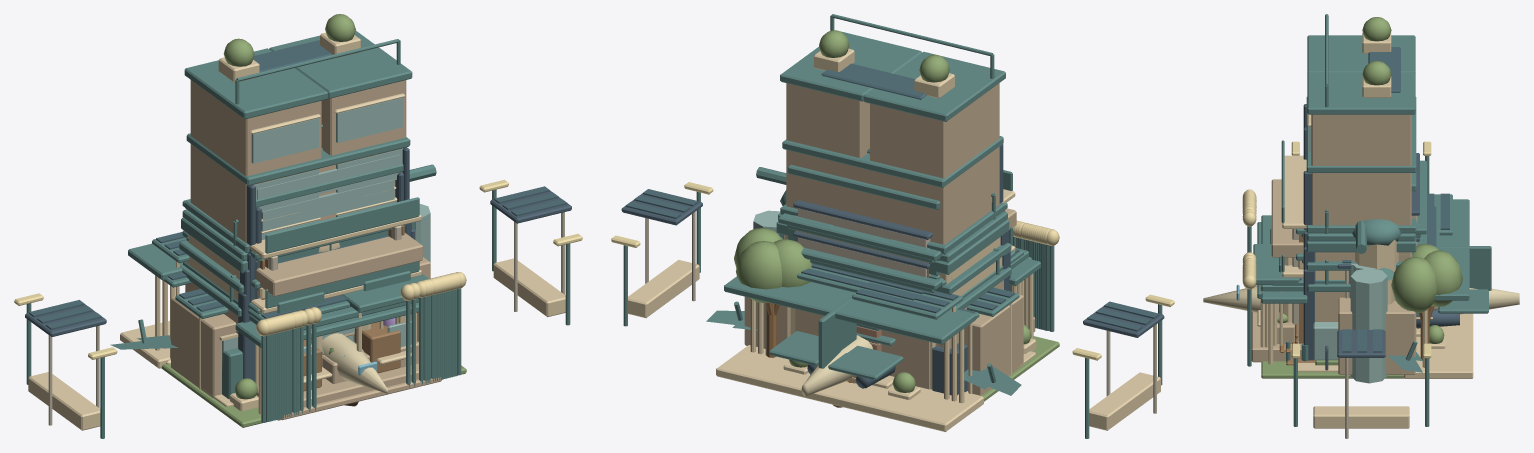
Rendered from city.glb.
3 renders of one model, left to right at view 1: azimuth 30°, elevation 25°; view 2: azimuth 150°, elevation 25°; view 3: azimuth 270°, elevation 25°, orthographic. The views are drawn at different scales.
Visible parts, largest first — view 1: Separate dwelling.011, Bank entablature.001, Dwelling cornice.011, Side service wing.001, Dwelling cornice.012, Balcony balustrade.006, Ribbon window band.002, Separate dwelling.012, Period roof.034, Approach planter.002, Approach planter.003, Glazing.139 (+36 smaller); view 2: Separate dwelling.011, Platform.004, Separate dwelling.012, Entrance canopy.030, Dwelling cornice.011, Dwelling cornice.012, Purpose built hall.035, Side service wing.001, Purpose built hall.034, Period roof.034, Approach planter.002, Approach planter.003 (+41 smaller); view 3: Separate dwelling.012, Dwelling cornice.012, Reservoir.007, Dwelling cornice.011, Loading wing.001, Approach planter.003, Soft leaf crown.004, Platform.003, Balcony deck.006, Jet fuselage, Bank entablature.001, Period roof.034 (+47 smaller).
Boxes of the visible parts, x1=… form: Separate dwelling.011: x1=190, y1=80, x2=321, y2=242; Bank entablature.001: x1=256, y1=233, x2=422, y2=296; Dwelling cornice.011: x1=184, y1=48, x2=327, y2=119; Side service wing.001: x1=171, y1=296, x2=236, y2=398; Dwelling cornice.012: x1=269, y1=30, x2=412, y2=98; Balcony balustrade.006: x1=265, y1=197, x2=419, y2=253; Ribbon window band.002: x1=261, y1=179, x2=394, y2=231; Separate dwelling.012: x1=321, y1=80, x2=406, y2=196; Period roof.034: x1=186, y1=133, x2=410, y2=185; Approach planter.002: x1=28, y1=372, x2=100, y2=430; Approach planter.003: x1=493, y1=258, x2=565, y2=317; Glazing.139: x1=251, y1=118, x2=318, y2=163; Separate dwelling.011: x1=870, y1=83, x2=999, y2=244; Platform.004: x1=724, y1=347, x2=962, y2=430; Separate dwelling.012: x1=786, y1=83, x2=869, y2=239; Entrance canopy.030: x1=732, y1=281, x2=958, y2=341; Dwelling cornice.011: x1=863, y1=51, x2=1005, y2=121; Dwelling cornice.012: x1=780, y1=31, x2=921, y2=101; Purpose built hall.035: x1=795, y1=176, x2=934, y2=242; Side service wing.001: x1=964, y1=294, x2=1023, y2=395; Purpose built hall.034: x1=790, y1=151, x2=939, y2=243; Period roof.034: x1=782, y1=136, x2=1003, y2=187; Approach planter.002: x1=1089, y1=372, x2=1160, y2=430; Approach planter.003: x1=628, y1=259, x2=699, y2=317; Separate dwelling.012: x1=1311, y1=114, x2=1411, y2=225; Dwelling cornice.012: x1=1307, y1=72, x2=1415, y2=114; Reservoir.007: x1=1350, y1=268, x2=1387, y2=383; Dwelling cornice.011: x1=1307, y1=35, x2=1415, y2=72; Loading wing.001: x1=1338, y1=297, x2=1415, y2=374; Approach planter.003: x1=1313, y1=406, x2=1409, y2=428; Soft leaf crown.004: x1=1391, y1=257, x2=1437, y2=313; Platform.003: x1=1416, y1=313, x2=1471, y2=364; Balcony deck.006: x1=1282, y1=155, x2=1306, y2=228; Jet fuselage: x1=1203, y1=286, x2=1519, y2=314; Bank entablature.001: x1=1271, y1=179, x2=1303, y2=257; Period roof.034: x1=1306, y1=97, x2=1416, y2=172.
Bounding box in the file's own units: 13.9 × 8.63 × 8.2.
